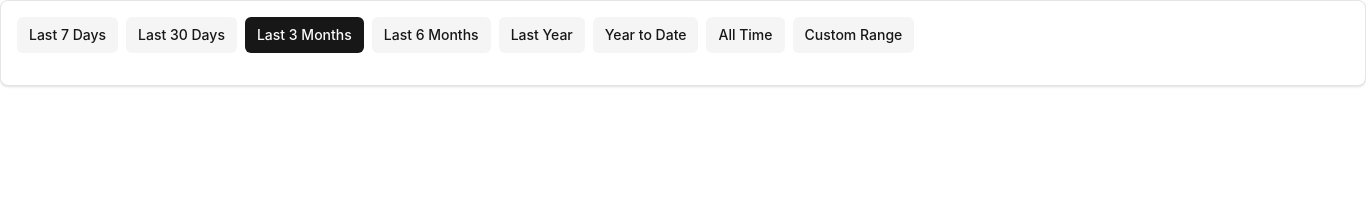
Test: TimeRangeSelector › should hide custom inputs when custom mode is toggled off
The image size is (1366, 202).
# Toggle on
Click the button "Custom Range" at (853, 35), box [792, 17, 914, 53]
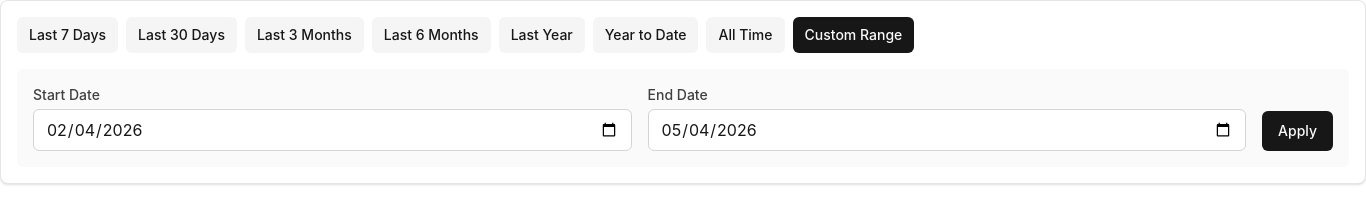
Expected: the date field labelled "Start Date" is shown, [33, 109, 632, 151]
# Toggle off
Click the button "Custom Range" at (853, 35), box [792, 17, 914, 53]
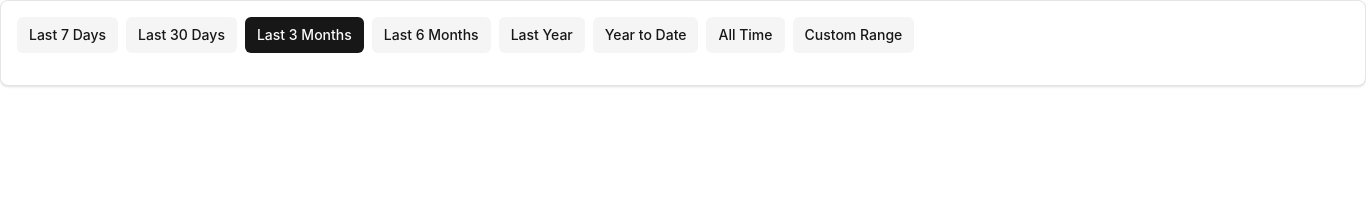
Expected: the label labelled "Start Date" is gone
